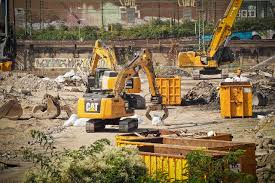excavator: (77, 50, 169, 138), (179, 0, 243, 79)
